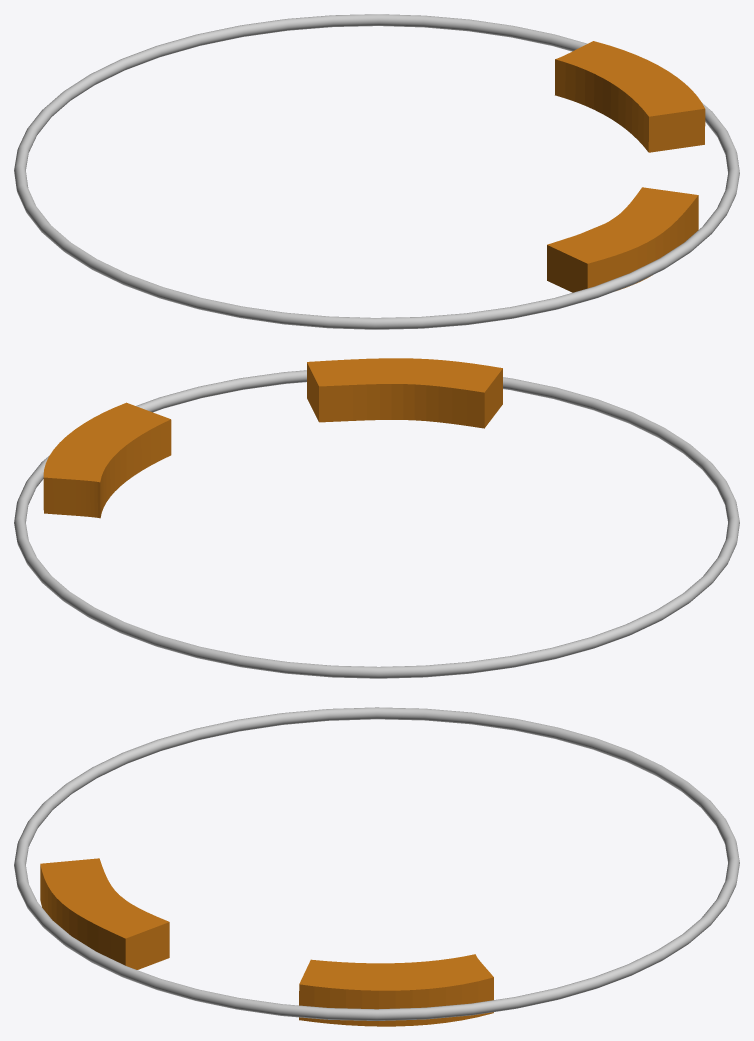
Rendered from full-level-joined-platforms-horizontal.obj.
3 renders of one model, top to bottom at view 1: azimuth 30°, elevation 25°; view 2: azimuth 150°, elevation 25°; view 3: azimuth 270°, elevation 25°, orthographic.
Visible parts, largest first — view 1: hoop_horizontal; view 2: hoop_horizontal; view 3: hoop_horizontal.
Boxes of the visible parts, x1,y1,x2,y2 form: hoop_horizontal: [14, 14, 739, 329]; hoop_horizontal: [14, 358, 739, 678]; hoop_horizontal: [14, 707, 739, 1026].
Bounding box in the file's own units: 0.5488 × 0.0315 × 0.5488.
